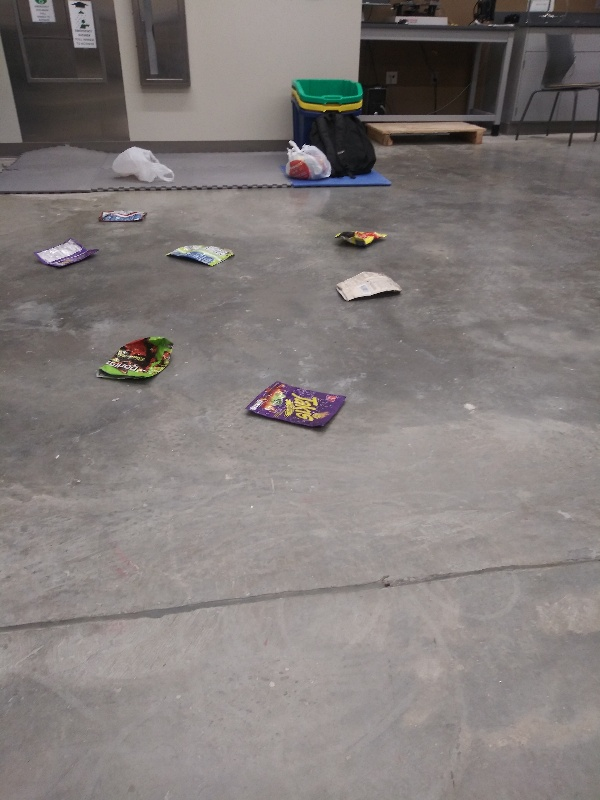bag: (243, 379, 351, 436), (96, 334, 181, 385), (330, 268, 409, 300), (33, 237, 105, 270), (165, 239, 240, 269), (329, 221, 391, 245), (96, 203, 152, 228)
